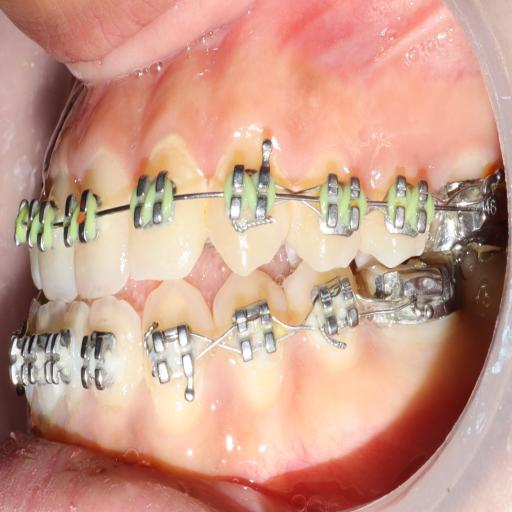correct_brace: (296, 164, 364, 268), (223, 155, 277, 226), (131, 170, 182, 234), (63, 186, 101, 250)
incorrect_brace: (132, 138, 206, 277), (312, 164, 366, 232)
